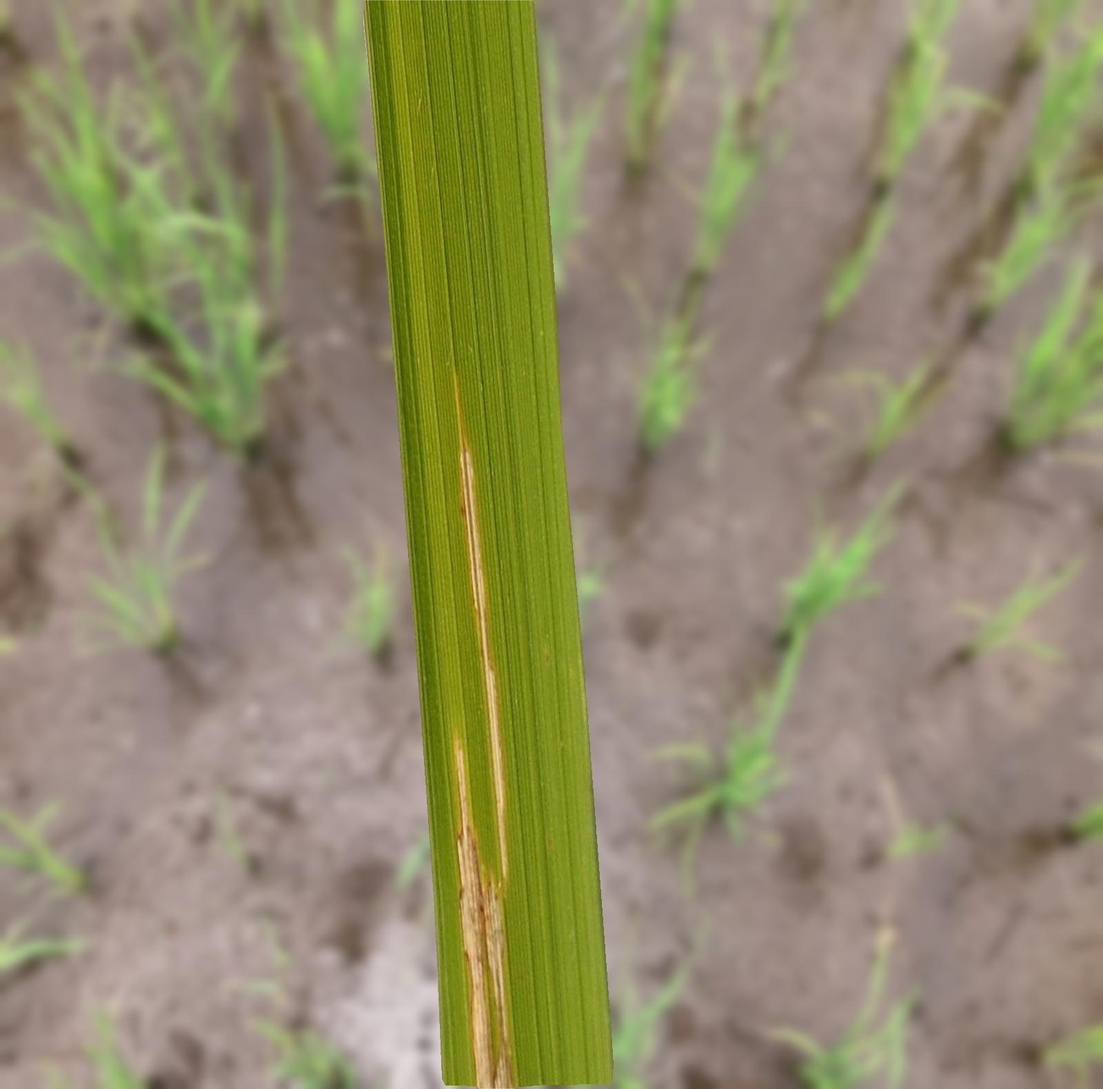BLS: (458, 409, 507, 879), (454, 740, 514, 1088), (459, 414, 485, 653), (484, 658, 507, 872)
LEAF: (363, 0, 613, 1088)
